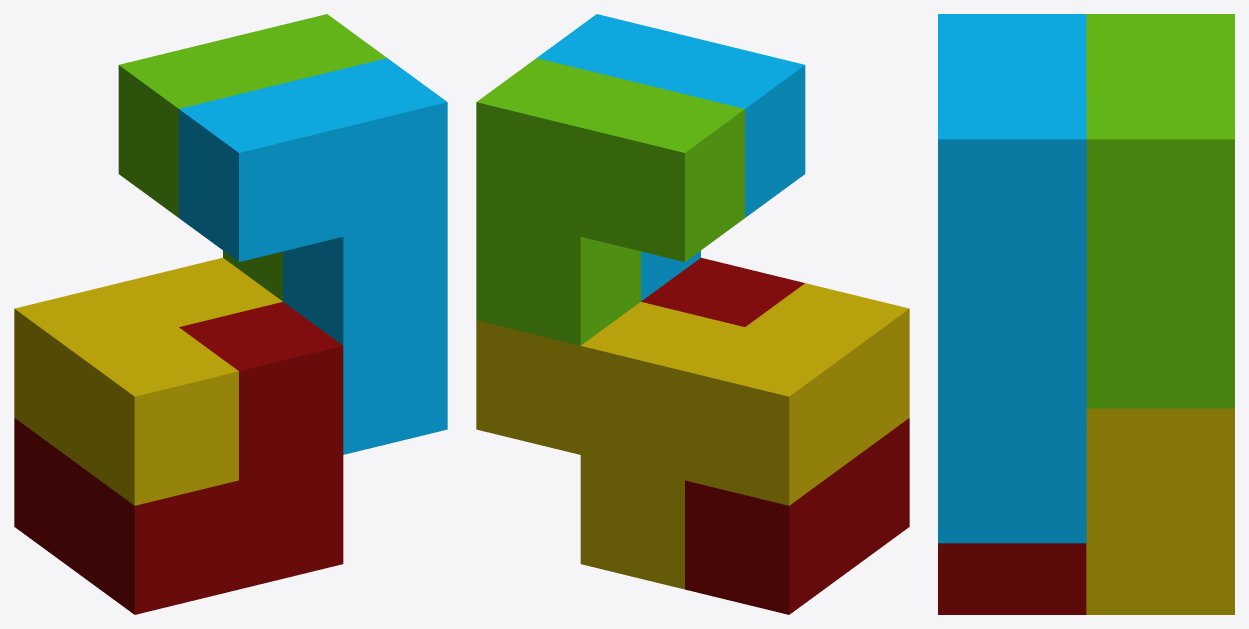
The picture shows the model from 3 angles, left to right: view 1: azimuth 30°, elevation 25°; view 2: azimuth 150°, elevation 25°; view 3: azimuth 270°, elevation 25°; orthographic projection. The views are drawn at different scales.
Parts seen in each view (by area): view 1: mergedBlocks(Clone); view 2: mergedBlocks(Clone); view 3: mergedBlocks(Clone).
Boxes of the visible parts, <box> form: mergedBlocks(Clone): <box>14,14,447,614</box>; mergedBlocks(Clone): <box>476,14,909,614</box>; mergedBlocks(Clone): <box>938,14,1234,614</box>.
Size of the model in its own units: 3 by 4 by 2.
4 materials, 4 textured.
